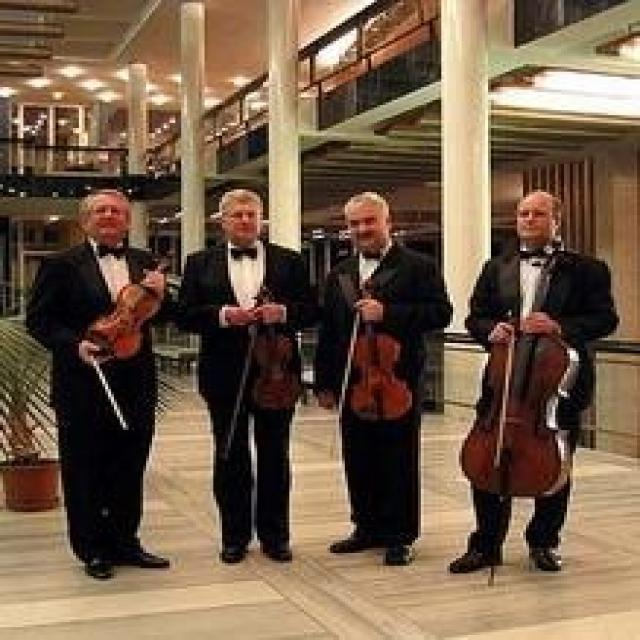cello: (455, 245, 587, 501)
violin: (81, 245, 183, 365), (342, 274, 416, 423), (246, 280, 304, 411)
